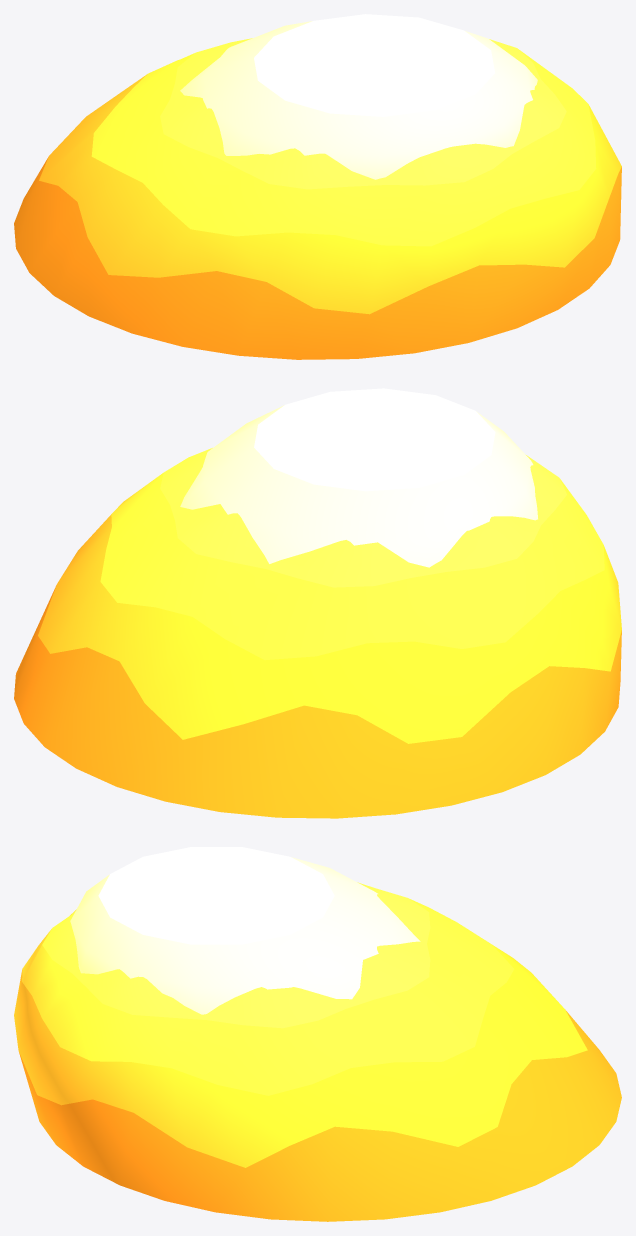
File: shot_eball.glb
The picture shows the model from 3 angles, top to bottom: view 1: azimuth 30°, elevation 25°; view 2: azimuth 150°, elevation 25°; view 3: azimuth 270°, elevation 25°; orthographic projection. The views are drawn at different scales.
Parts seen in each view (by area): view 1: shot_eball_fire, shot_eball_heart; view 2: shot_eball_fire, shot_eball_heart; view 3: shot_eball_fire, shot_eball_heart.
Boxes of the visible parts, <box> form: shot_eball_fire: <box>14,38,621,359</box>; shot_eball_heart: <box>180,14,537,179</box>; shot_eball_fire: <box>14,448,621,818</box>; shot_eball_heart: <box>180,388,537,567</box>; shot_eball_fire: <box>14,882,621,1221</box>; shot_eball_heart: <box>70,847,420,1014</box>.
Bounding box in the file's own units: 11 × 4.7 × 11.37.
